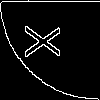X: (25, 25, 70, 58)
